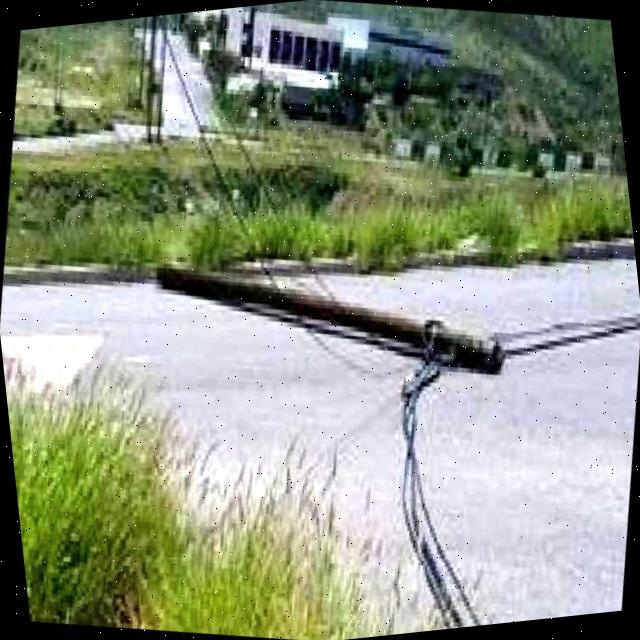Broken Pole: (156, 264, 503, 372)
